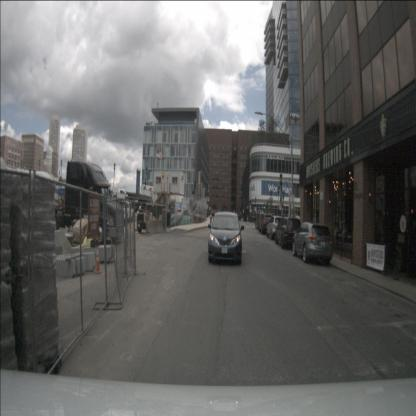cone: (94, 246, 102, 274), (195, 210, 199, 224)
